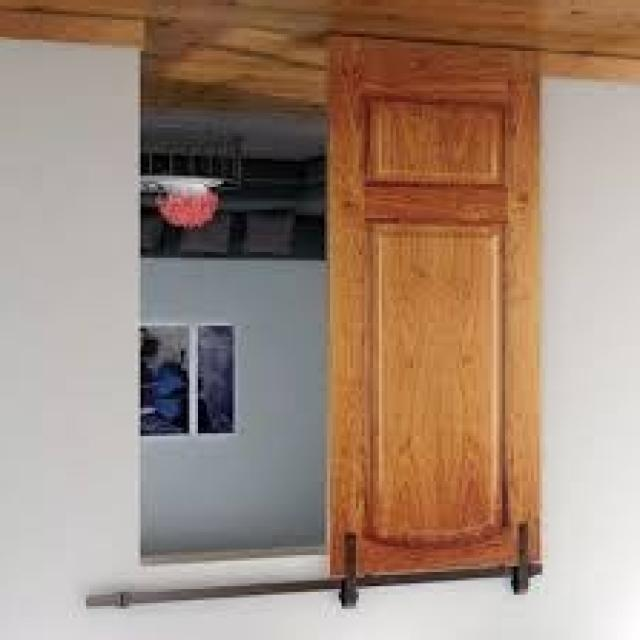door: (323, 35, 544, 588)
